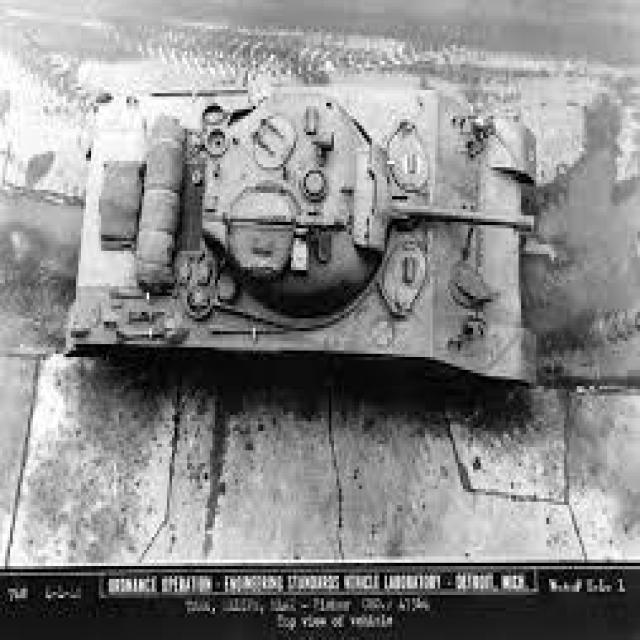Tanks: (67, 66, 550, 410)
